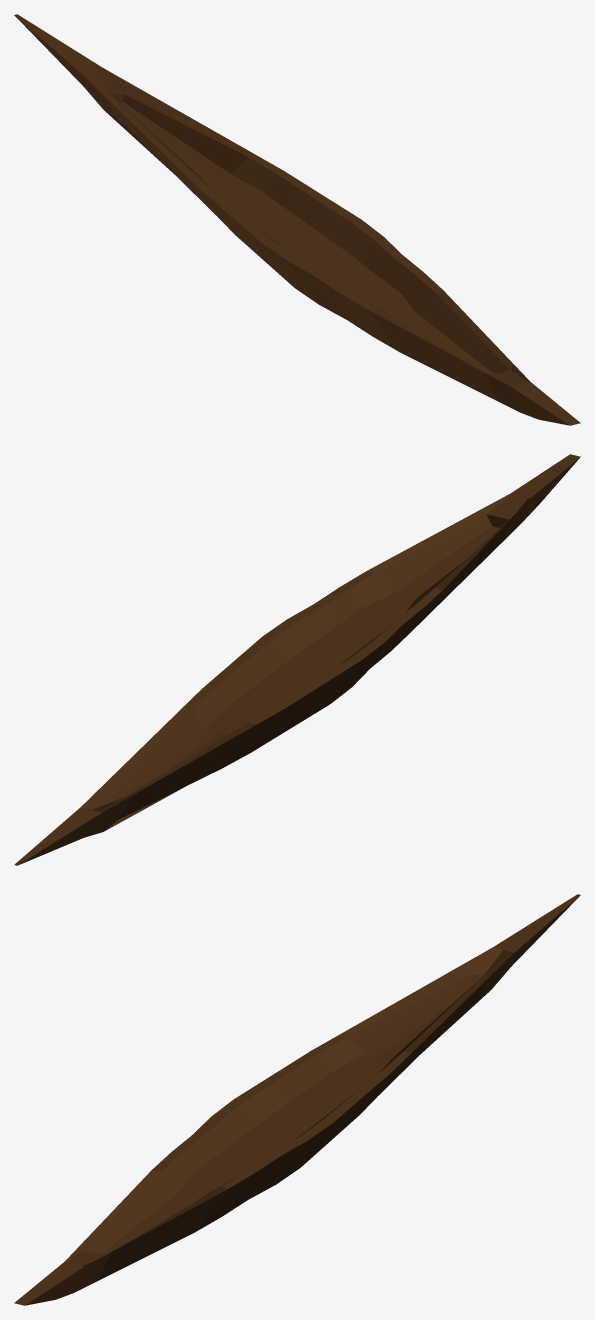
Rendered from LowPolyKajak_JAM23.fbx.
3 renders of one model, top to bottom at view 1: azimuth 30°, elevation 25°; view 2: azimuth 150°, elevation 25°; view 3: azimuth 330°, elevation 25°, orthographic.
Parts seen in each view (by area): view 1: Cube; view 2: Cube; view 3: Cube.
Boxes of the visible parts, x1,y1,x2,y2 form: Cube: [14, 14, 580, 425]; Cube: [14, 454, 580, 865]; Cube: [14, 894, 580, 1305].
Size of the model in its own units: 1.02 by 0.5093 by 9.98.
